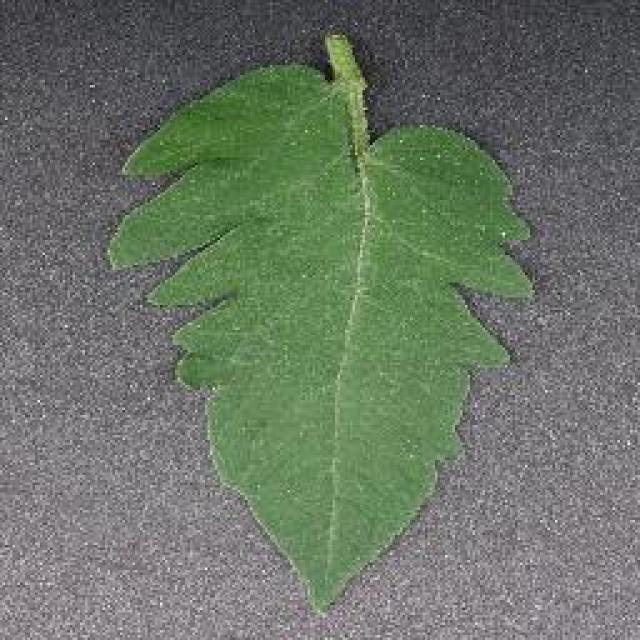Tomato___healthy: (104, 27, 541, 624)
